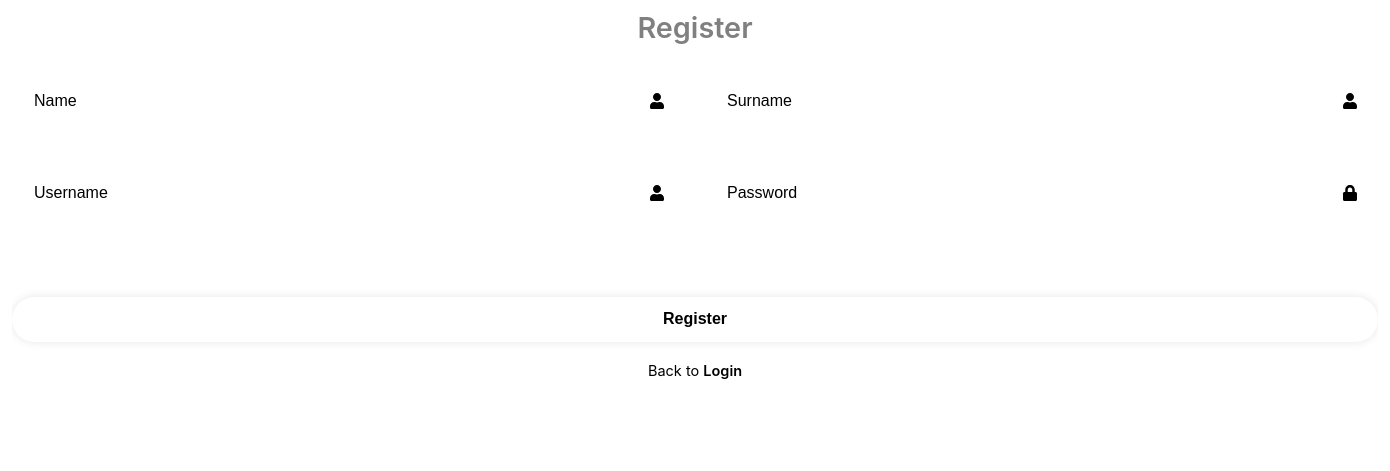
Scenario: Component Register Form › displays error message when errors prop is provided
This screenshot has width=1390, height=471.
Click the button "Register". click: (695, 319)
box: [12,297,1378,342]
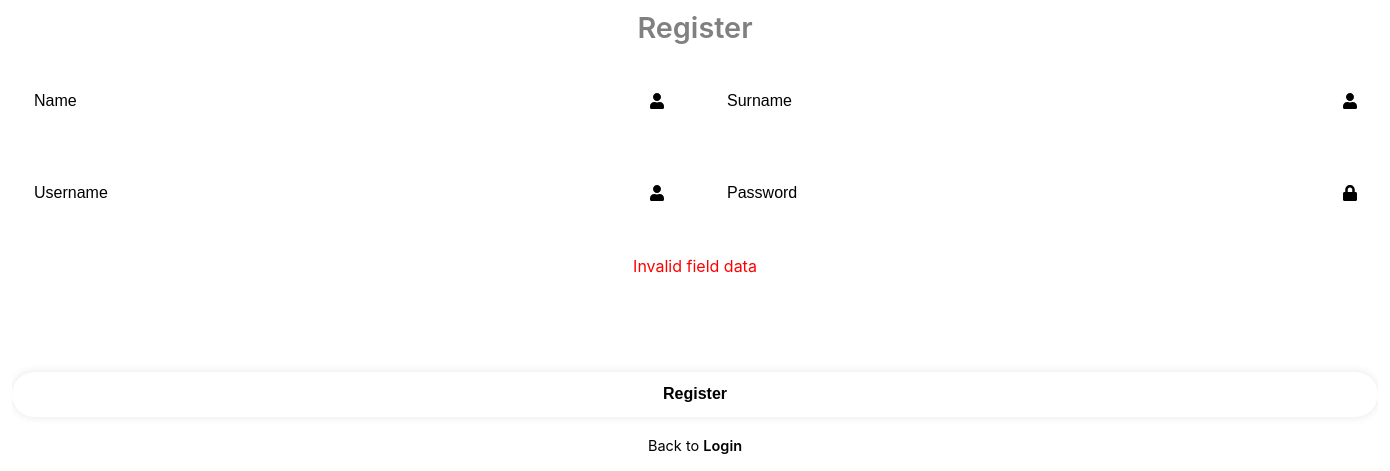
Expected: the text "Invalid field data" is shown, [633,256,757,276]
